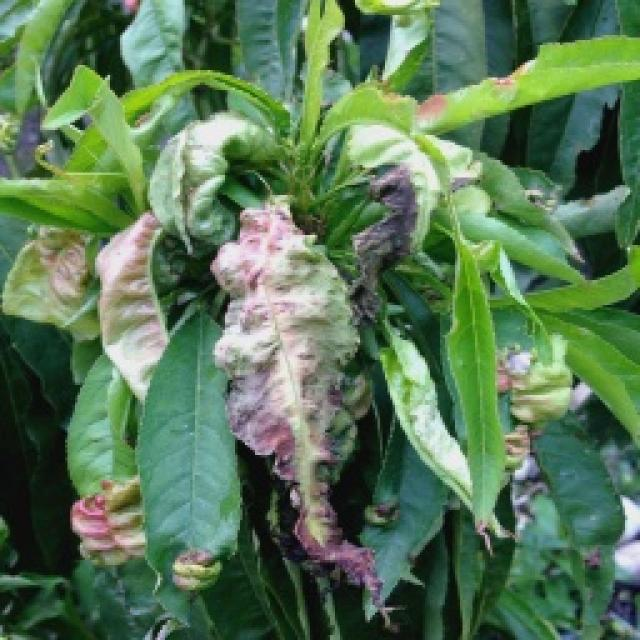peach_leaf_curl: (214, 165, 476, 574)
